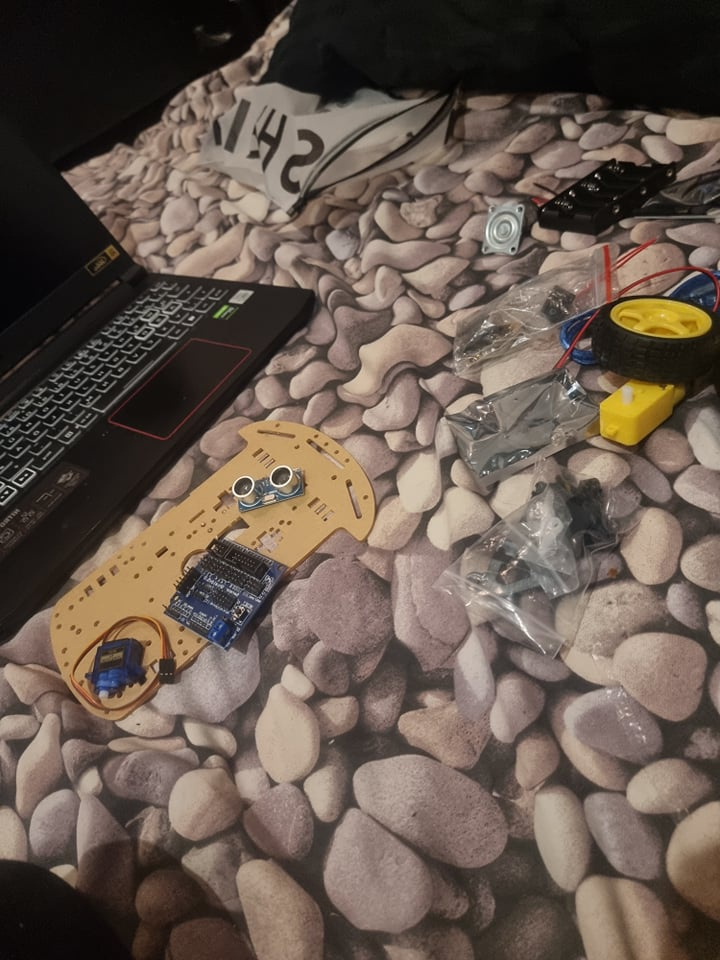5V EXPANSION: (161, 537, 292, 651)
BATTERY BOX: (539, 141, 680, 238)
SENSOR: (230, 463, 306, 513)
